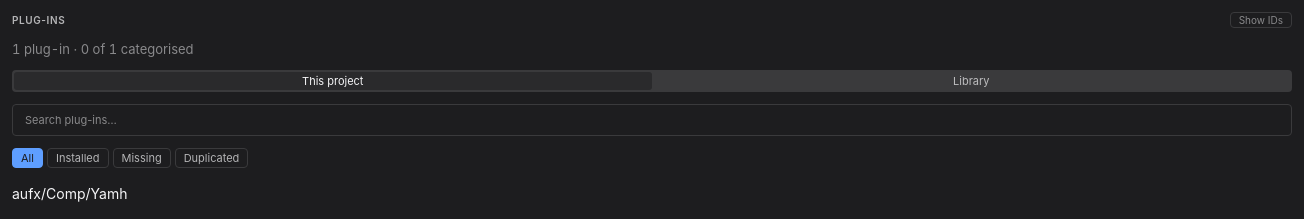
Test: <PluginRail /> › 'No matches' placeholder shows when filter empties the list
Type "qzqz" into the search field at (652, 120), box left=12, top=104, right=1292, bottom=136
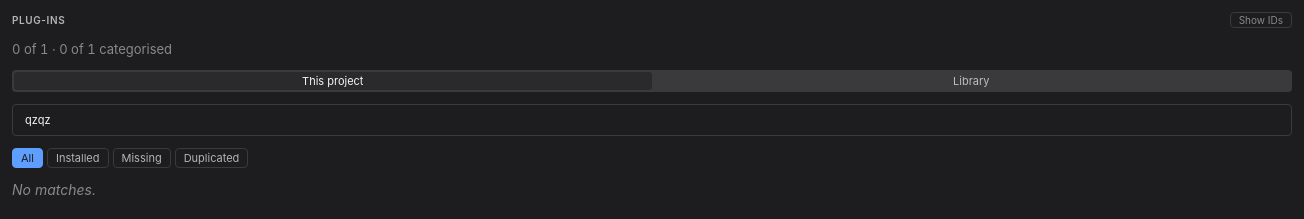
Result: the text "No matches." is shown at left=12, top=181, right=96, bottom=198
